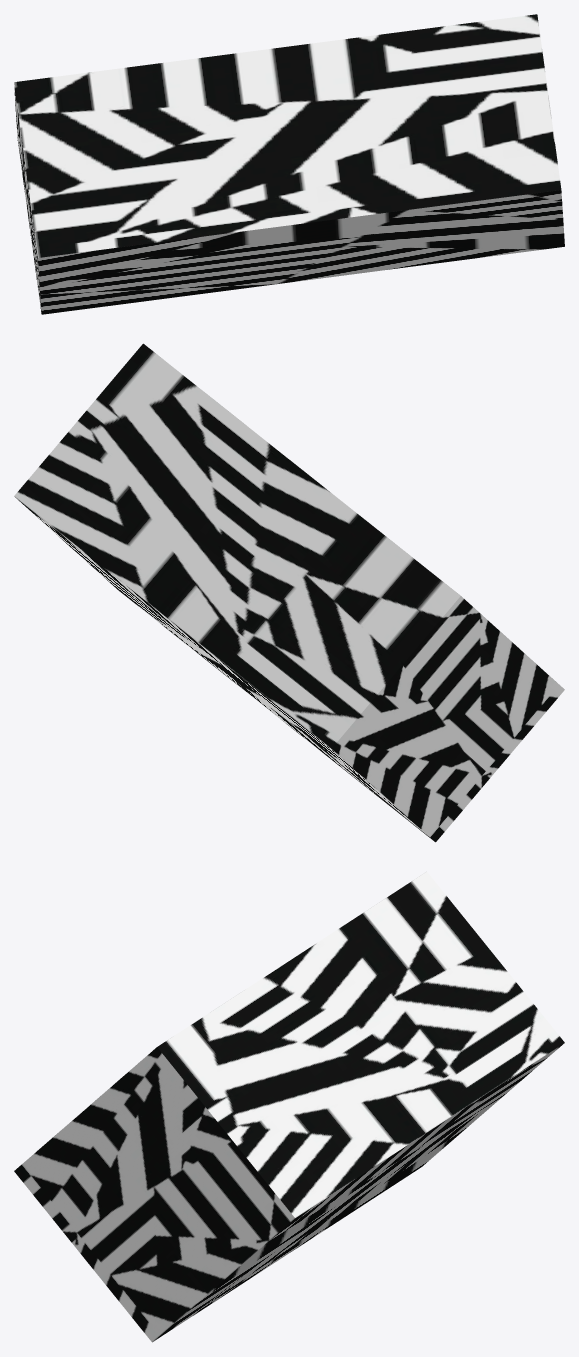
3 views of the same model, one above another, from view 1: azimuth 30°, elevation 25°; view 2: azimuth 150°, elevation 25°; view 3: azimuth 270°, elevation 25° (orthographic). The views are drawn at different scales.
Visible parts, largest first — view 1: Cube.024; view 2: Cube.024; view 3: Cube.024.
Boxes of the visible parts, x1=… form: Cube.024: x1=14, y1=14, x2=564, y2=314; Cube.024: x1=14, y1=343, x2=564, y2=842; Cube.024: x1=14, y1=871, x2=564, y2=1342.
Bounding box in the file's own units: 9.58 × 5.21 × 7.61.
Materials: 1 (1 with a texture image).
